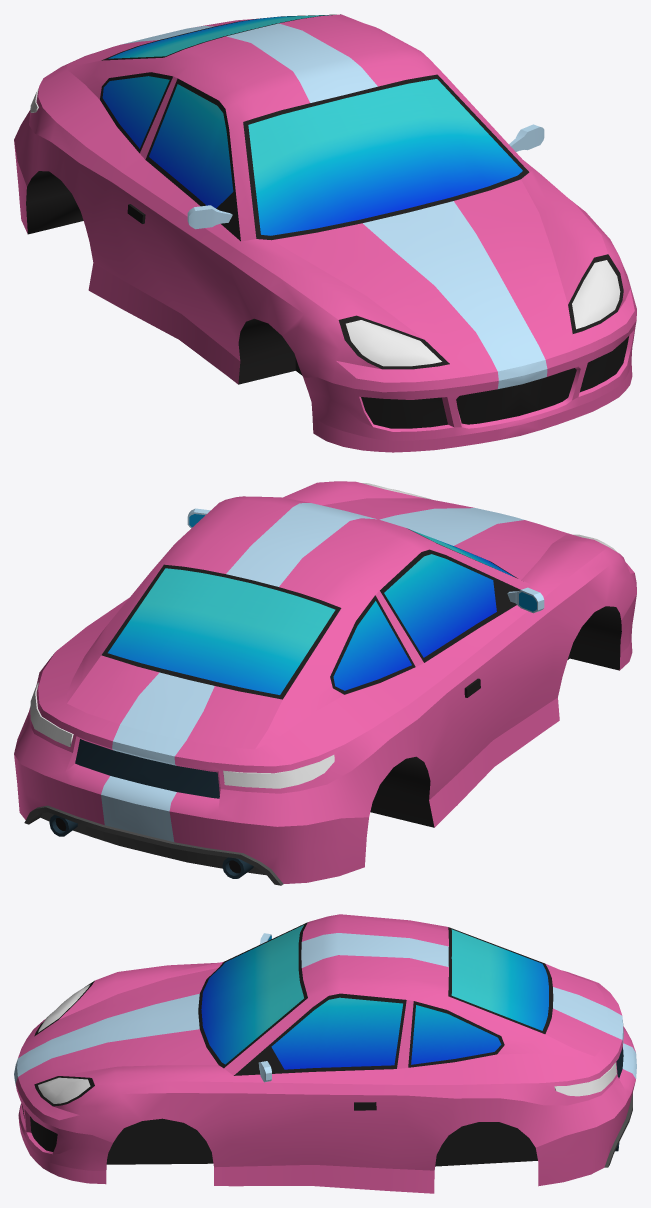
The model's file is Pche.fbx.
3 renders of one model, top to bottom at view 1: azimuth 30°, elevation 25°; view 2: azimuth 150°, elevation 25°; view 3: azimuth 270°, elevation 25°, orthographic. The views are drawn at different scales.
Parts seen in each view (by area): view 1: Body.002; view 2: Body.002; view 3: Body.002.
Part boxes in pixels (x1,y1,x2,y2): Body.002: [14, 14, 636, 452]; Body.002: [14, 481, 636, 885]; Body.002: [14, 914, 636, 1193].
Bounding box in the file's own units: 206 × 126 × 391.
